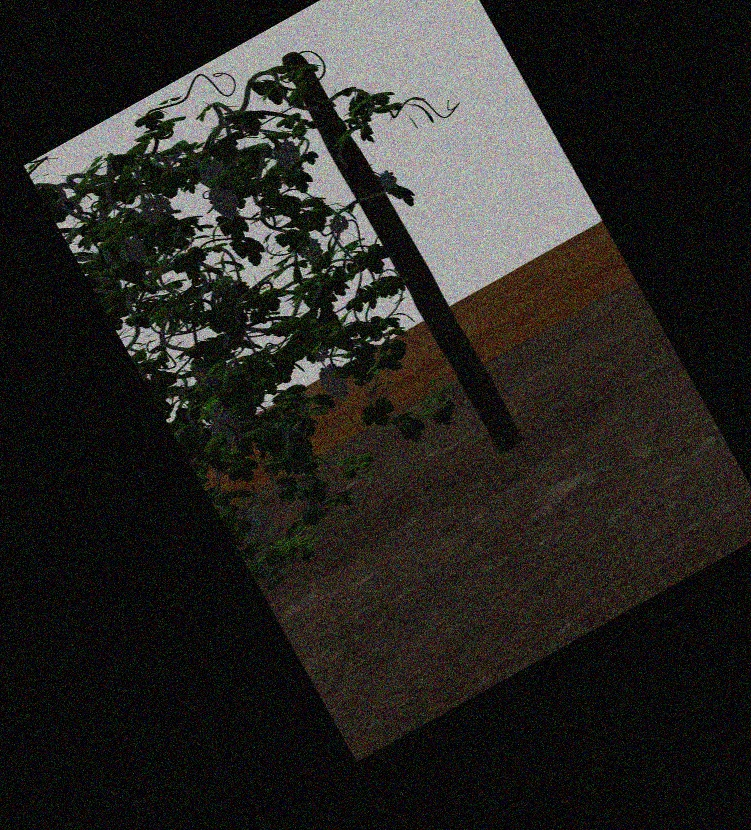grape: (322, 365, 350, 401), (212, 410, 238, 444), (213, 186, 238, 220), (245, 513, 269, 541), (298, 236, 322, 263), (120, 239, 145, 264), (275, 142, 299, 168), (200, 160, 226, 179), (379, 169, 396, 190), (330, 214, 347, 232)
